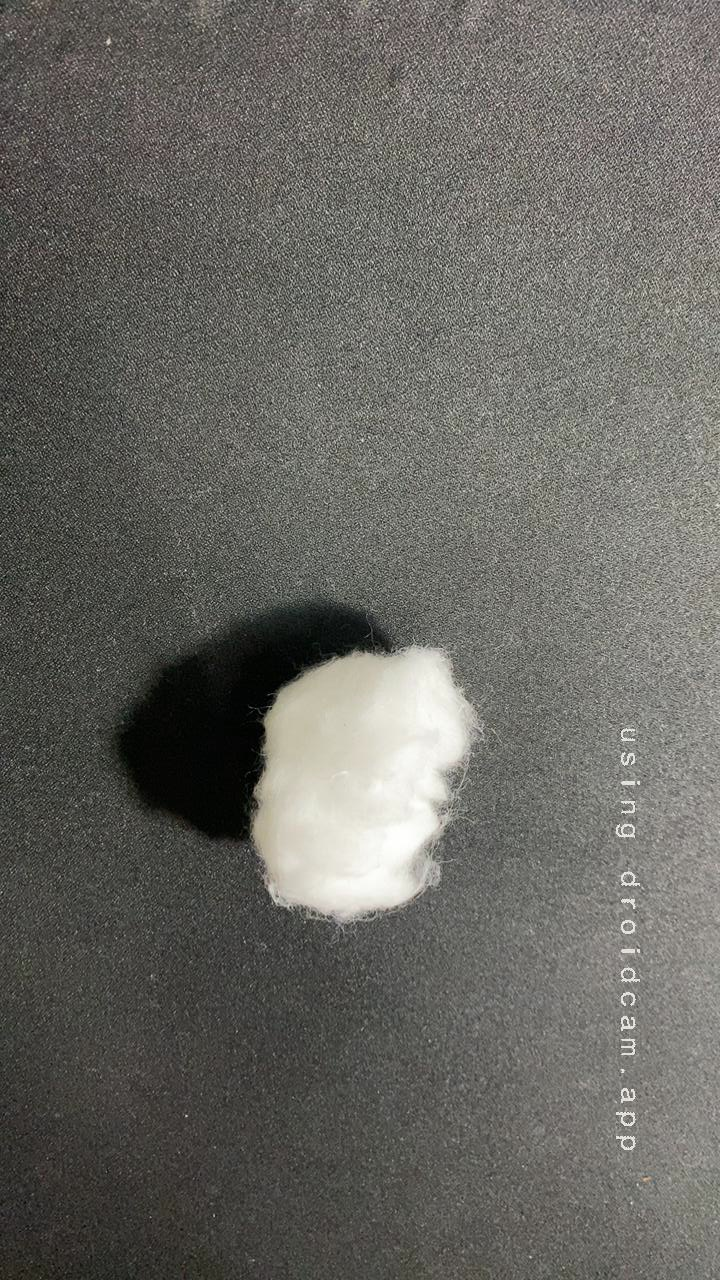cotton: (230, 636, 512, 939)
